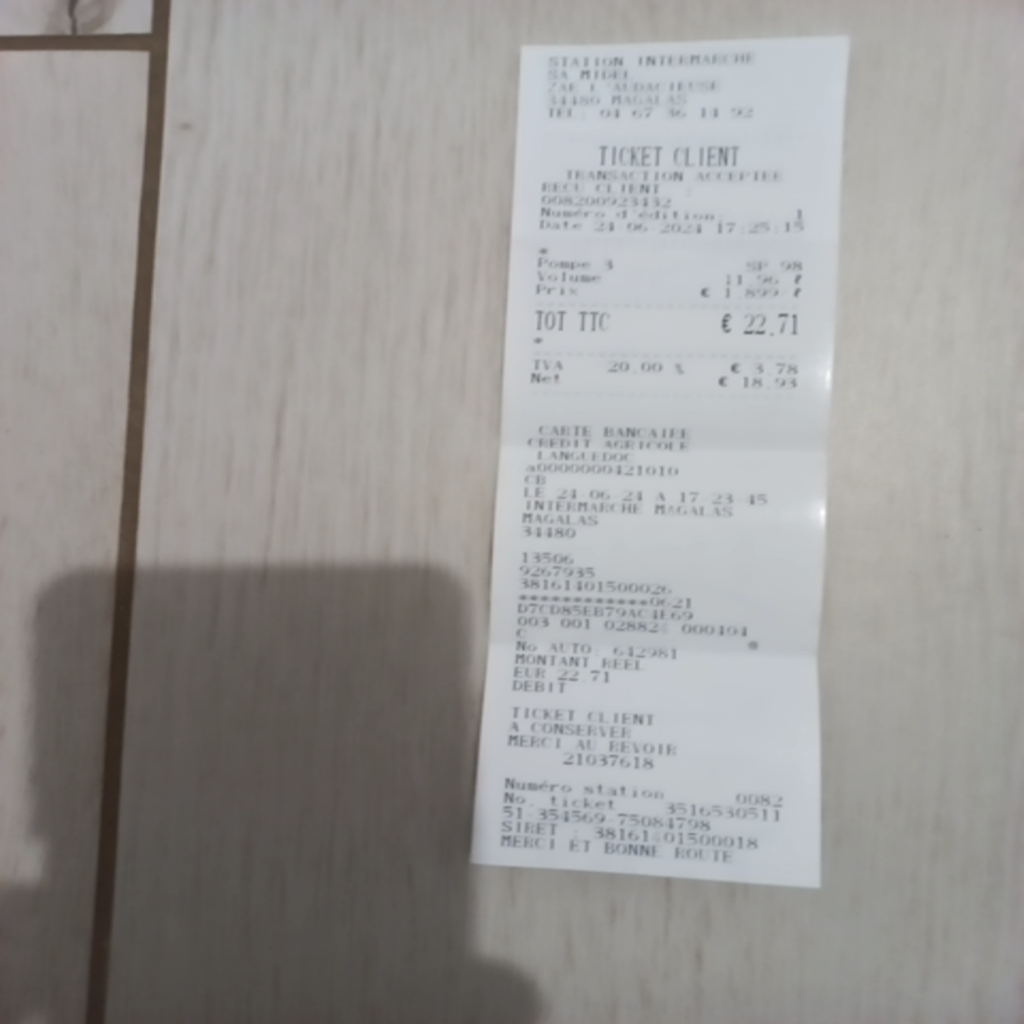recipt: (464, 38, 848, 894)
